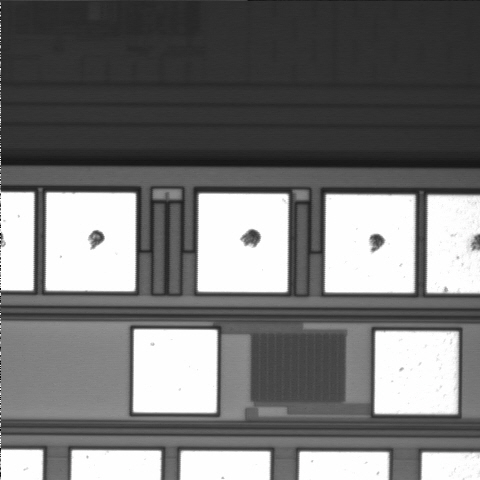pad: (325, 194, 415, 293), (46, 193, 136, 291), (198, 194, 288, 292), (133, 329, 217, 413), (375, 331, 458, 414)
